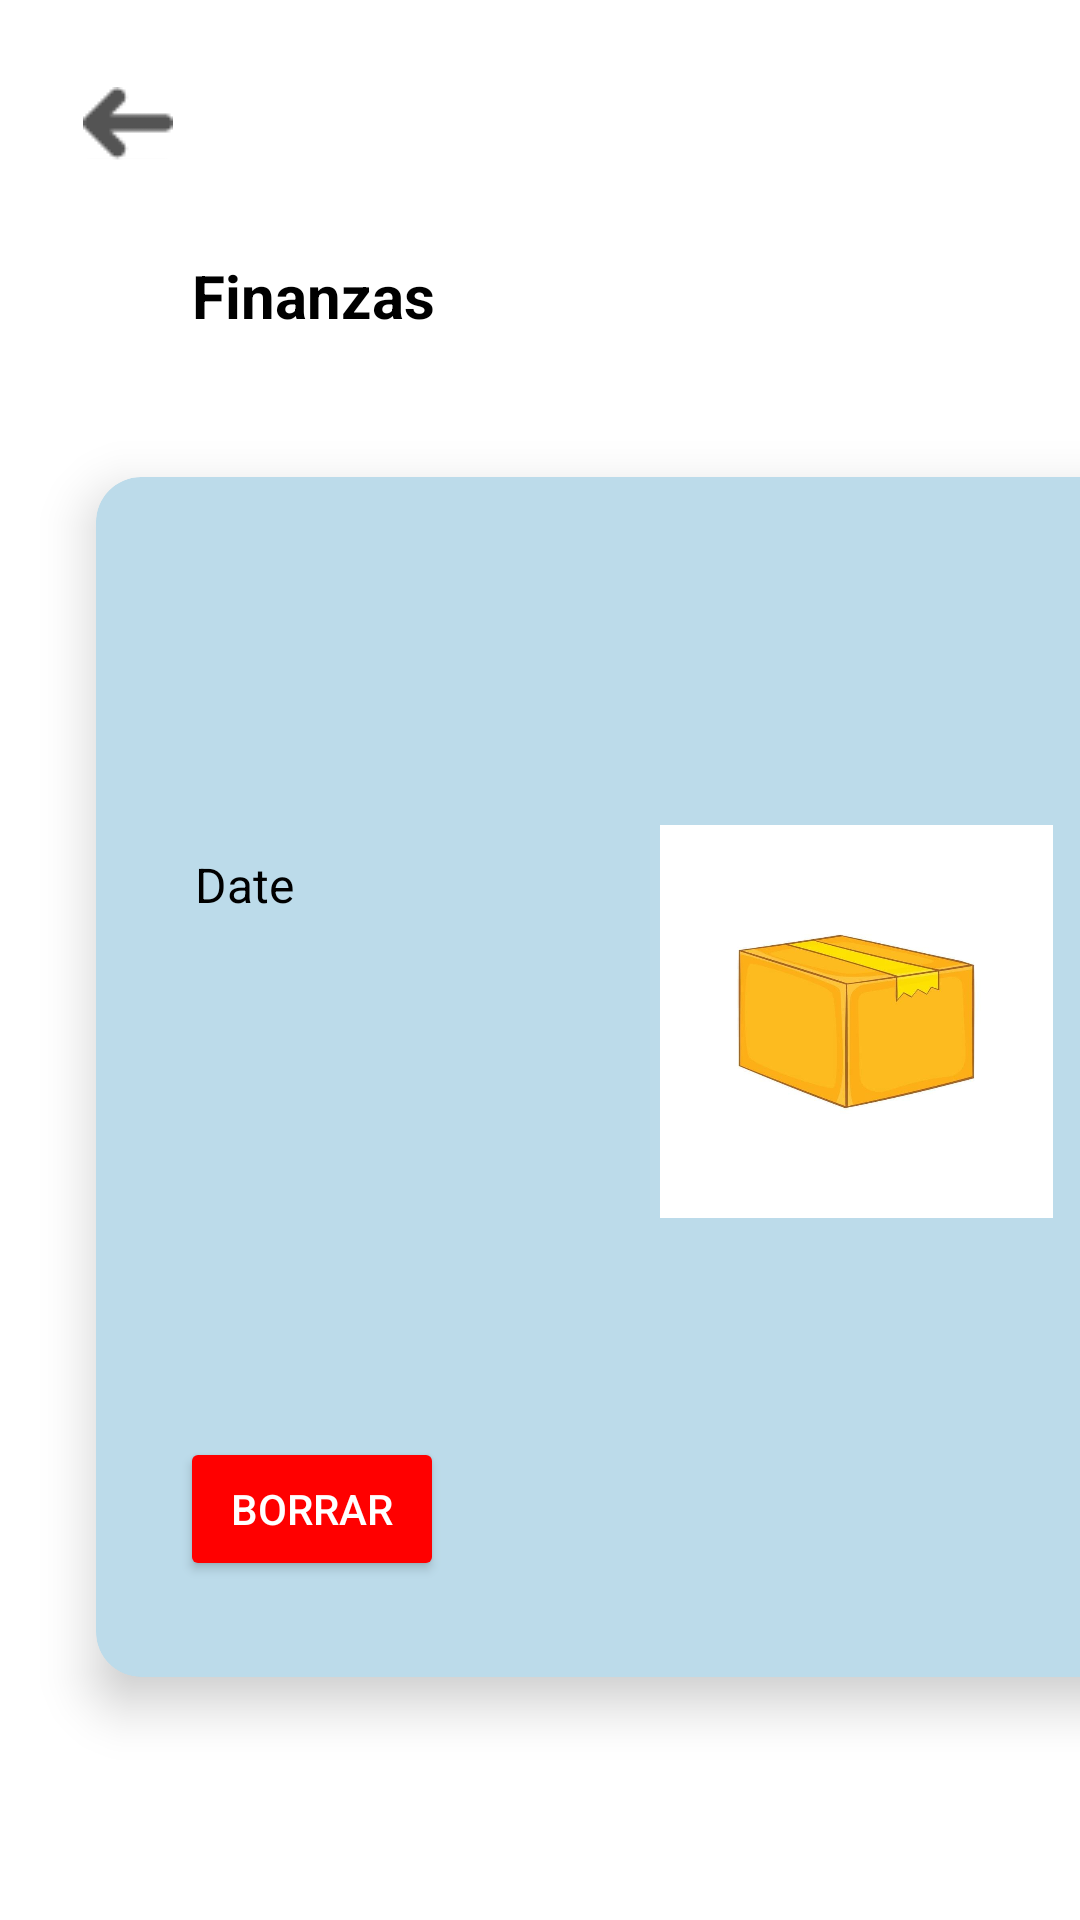

Named icons in this screenshot (1080x1920) and their centers, point (x, y):
flecha: point (128, 123)
